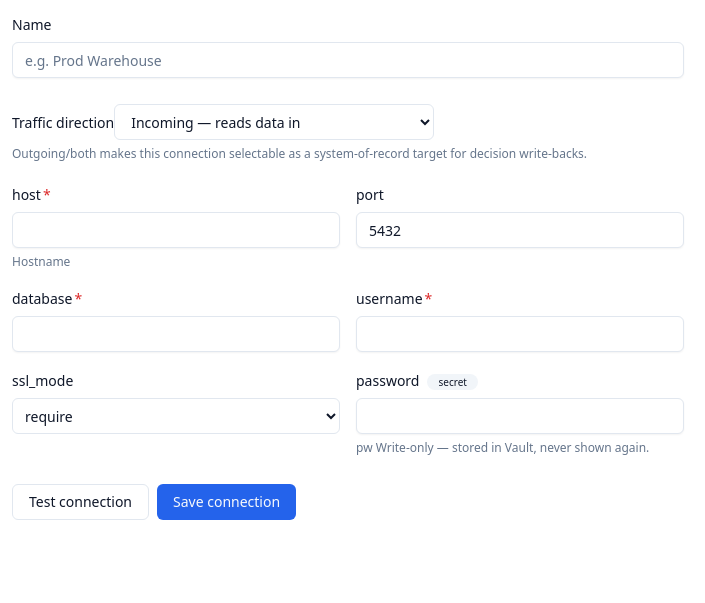
Test: Test Connection surfaces the real probe result › shows AUTH_FAILED when the probe fails with bad credentials
The width and height of the screenshot is (705, 603).
Type "db.internal" into the field labelled "host*". click: (176,230)
box: [12, 212, 340, 248]
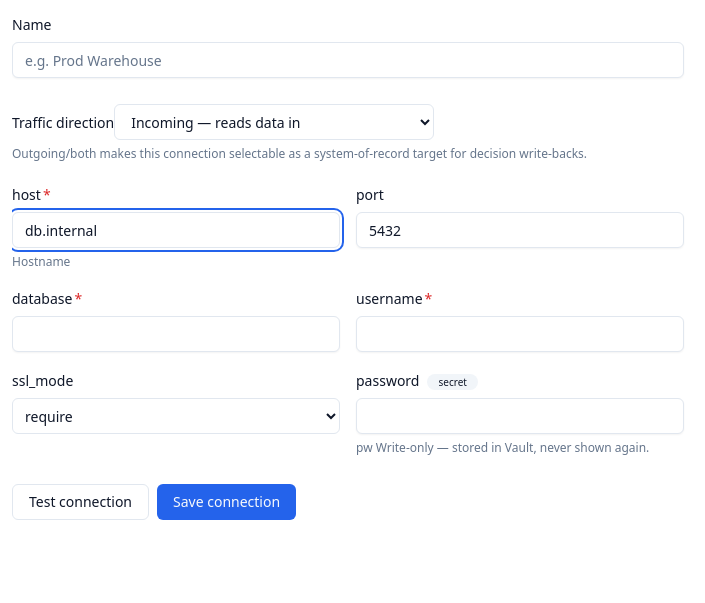
Type "sales" into the field labelled "database*". click: (176,334)
box: [12, 316, 340, 352]
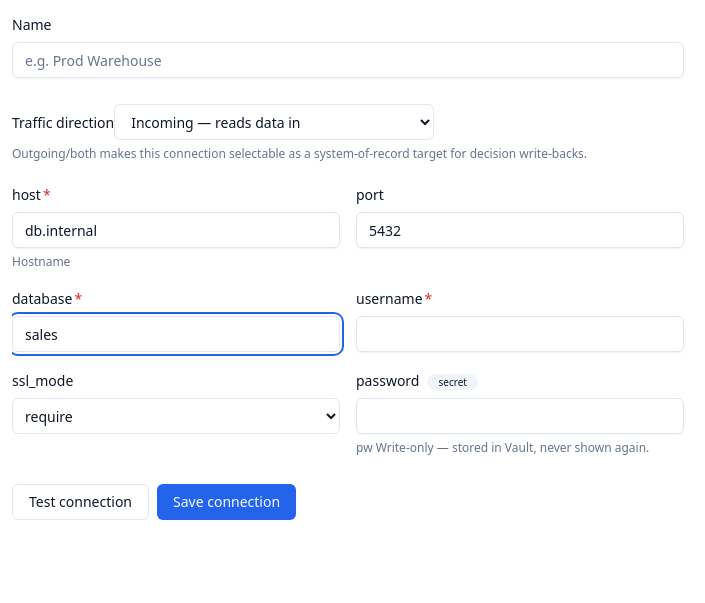
Type "ro" into the field labelled "username*". click: (520,334)
box: [356, 316, 684, 352]
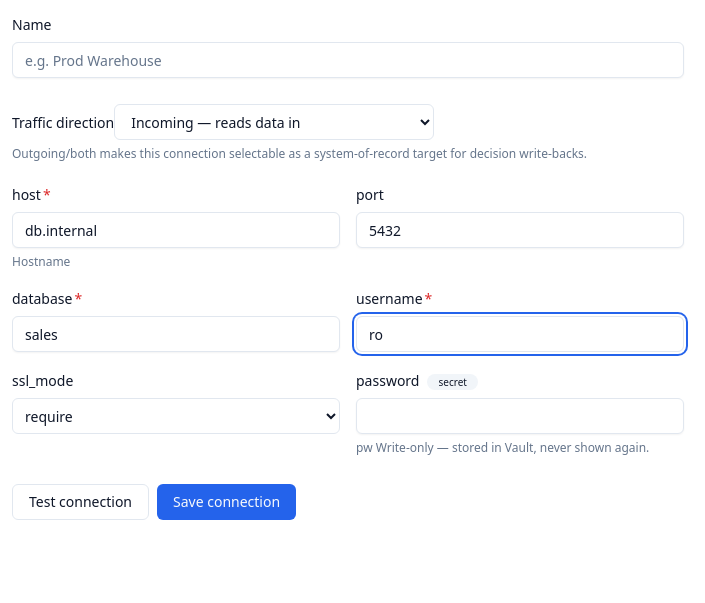
Type "wrong" into the password field labelled "password secret". click: (520,416)
box: [356, 398, 684, 434]
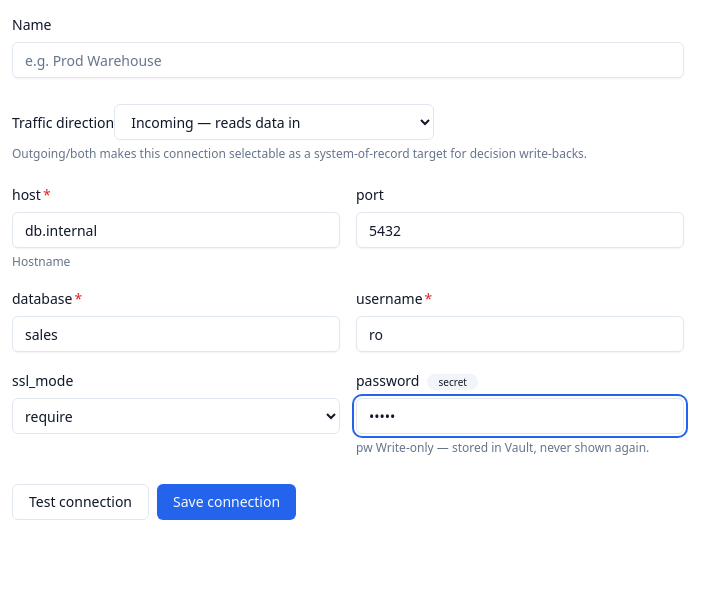
Click the button "Test connection". click: (80,502)
box: [12, 484, 149, 520]
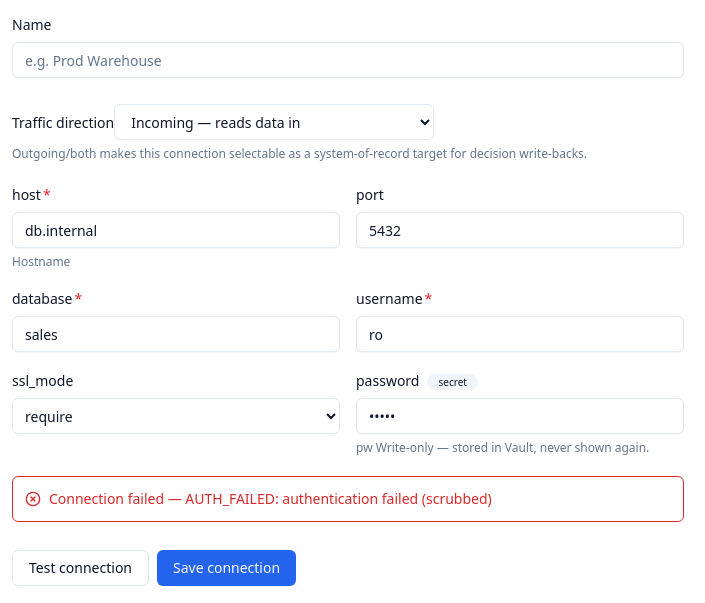
Now the message with test id "test-result" shows "AUTH_FAILED", box [164, 489, 275, 508]
